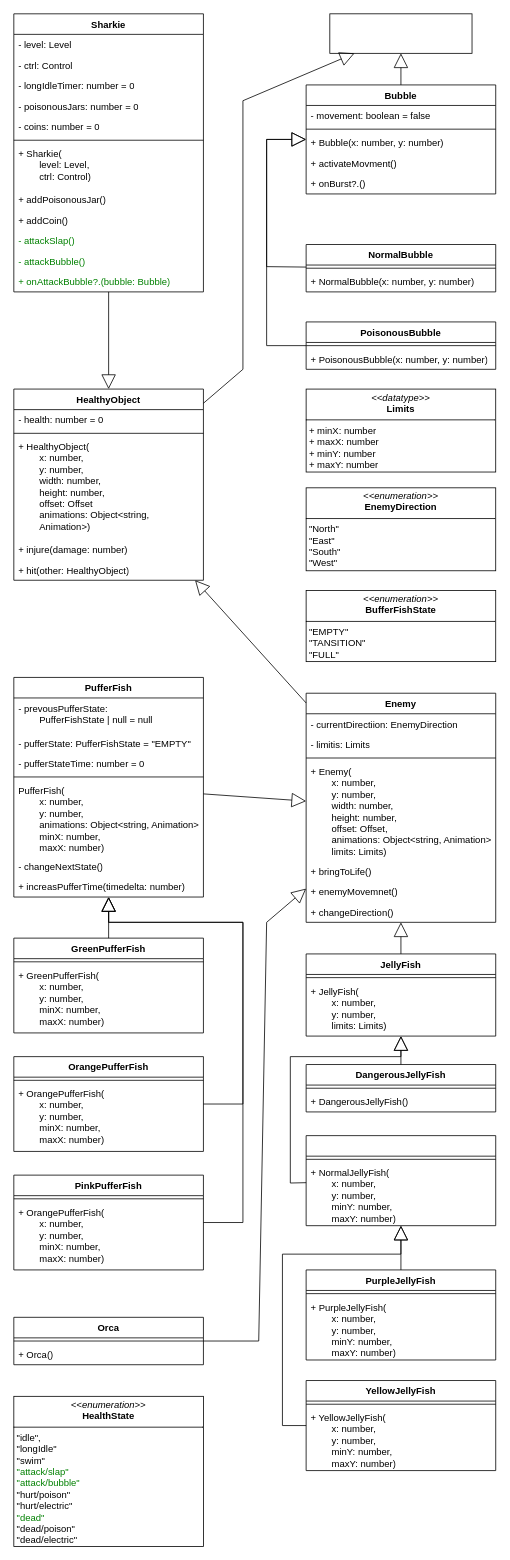
Image size: 510x1560. Some labels were removed from this diagram. The box of each missing label's shape, as (x1, y1, x2, y2) in pixels:
MovableObject: (329, 13, 472, 53)
NormalJellyFisch: (305, 1135, 496, 1226)
